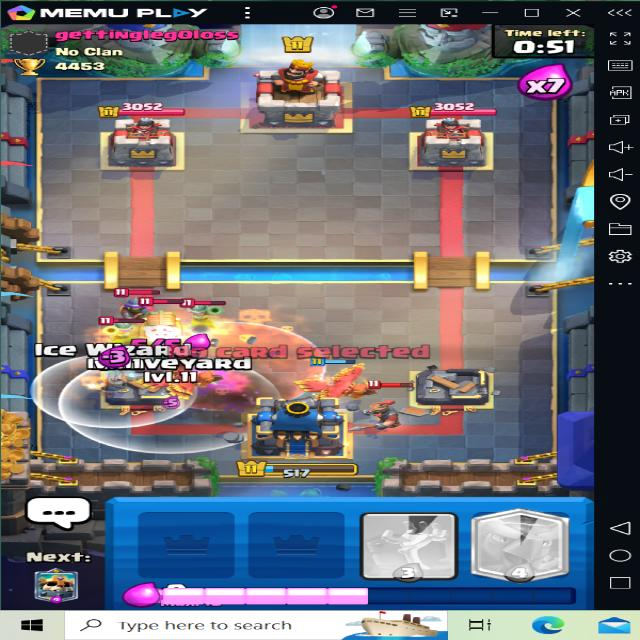musketeer: (183, 294, 224, 332), (118, 288, 154, 324), (105, 318, 143, 350)
royal-recruits: (367, 392, 414, 430)
sparky: (126, 296, 196, 352)
